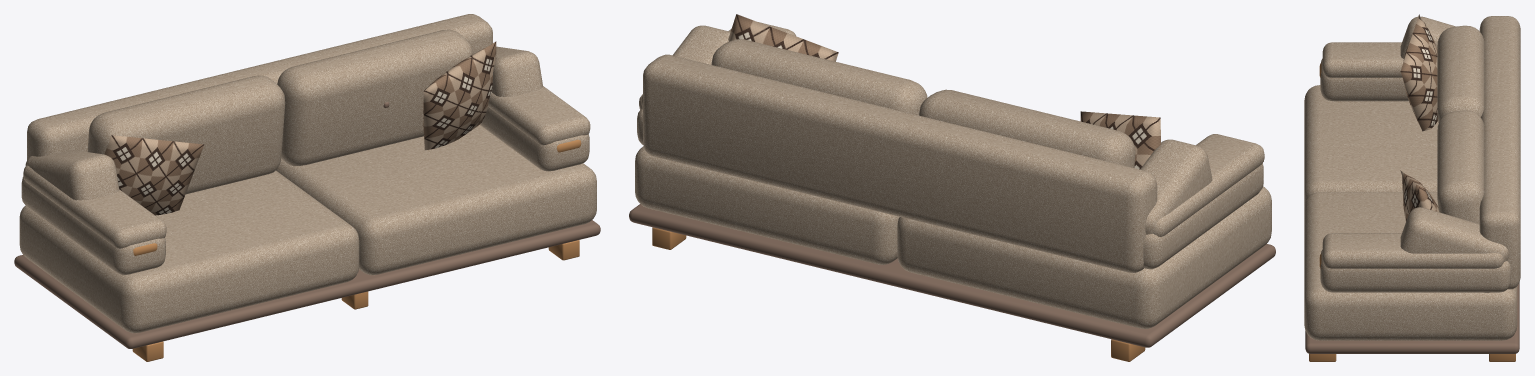
Rendered from limoon-3lu-koltuk.glb.
3 renders of one model, left to right at view 1: azimuth 30°, elevation 25°; view 2: azimuth 150°, elevation 25°; view 3: azimuth 270°, elevation 25°, orthographic. The views are drawn at different scales.
Parts seen in each view (by area): view 1: Limoon3Lu_Seat_0, Limoon3Lu_Seat_1, Limoon3Lu_BackCushion_1, Limoon3Lu_BackCushion_0, Limoon3Lu_Plinth, Limoon3Lu_BackFrame, Limoon3Lu_ThrowPillow_0, Limoon3Lu_ThrowPillow_1, Limoon3Lu_ArmTopPillow_0, Limoon3Lu_ArmBase_0, Limoon3Lu_ArmTopPillow_1, Limoon3Lu_SideWing_0 (+2 smaller); view 2: Limoon3Lu_BackFrame, Limoon3Lu_Seat_0, Limoon3Lu_Seat_1, Limoon3Lu_Plinth, Limoon3Lu_BackCushion_0, Limoon3Lu_BackCushion_1, Limoon3Lu_SideWing_0, Limoon3Lu_ArmTopPillow_0, Limoon3Lu_ArmBase_0, Limoon3Lu_ThrowPillow_0, Limoon3Lu_ThrowPillow_1, Limoon3Lu_SideWing_1 (+2 smaller); view 3: Limoon3Lu_Seat_1, Limoon3Lu_Seat_0, Limoon3Lu_BackFrame, Limoon3Lu_BackCushion_1, Limoon3Lu_ArmBase_1, Limoon3Lu_ArmTopPillow_1, Limoon3Lu_BackCushion_0, Limoon3Lu_SideWing_1, Limoon3Lu_Plinth, Limoon3Lu_ThrowPillow_0, Limoon3Lu_ArmTopPillow_0, Limoon3Lu_ArmBase_0 (+4 smaller).
Boxes of the visible parts, x1=… form: Limoon3Lu_Seat_0: x1=19, y1=170, x2=359, y2=333; Limoon3Lu_Seat_1: x1=276, y1=125, x2=596, y2=275; Limoon3Lu_BackCushion_1: x1=277, y1=29, x2=472, y2=166; Limoon3Lu_BackCushion_0: x1=87, y1=75, x2=285, y2=194; Limoon3Lu_Plinth: x1=14, y1=220, x2=600, y2=348; Limoon3Lu_BackFrame: x1=27, y1=14, x2=492, y2=159; Limoon3Lu_ThrowPillow_0: x1=104, y1=135, x2=204, y2=215; Limoon3Lu_ThrowPillow_1: x1=423, y1=41, x2=496, y2=150; Limoon3Lu_ArmTopPillow_0: x1=23, y1=165, x2=166, y2=248; Limoon3Lu_ArmBase_0: x1=21, y1=177, x2=165, y2=275; Limoon3Lu_ArmTopPillow_1: x1=488, y1=86, x2=590, y2=145; Limoon3Lu_SideWing_0: x1=25, y1=150, x2=119, y2=200; Limoon3Lu_BackFrame: x1=643, y1=54, x2=1157, y2=272; Limoon3Lu_Seat_0: x1=897, y1=186, x2=1271, y2=328; Limoon3Lu_Seat_1: x1=635, y1=146, x2=899, y2=264; Limoon3Lu_Plinth: x1=629, y1=204, x2=1275, y2=347; Limoon3Lu_BackCushion_0: x1=919, y1=89, x2=1135, y2=167; Limoon3Lu_BackCushion_1: x1=711, y1=39, x2=927, y2=115; Limoon3Lu_SideWing_0: x1=1140, y1=139, x2=1212, y2=234; Limoon3Lu_ArmTopPillow_0: x1=1153, y1=134, x2=1264, y2=236; Limoon3Lu_ArmBase_0: x1=1143, y1=163, x2=1263, y2=269; Limoon3Lu_ThrowPillow_0: x1=1080, y1=111, x2=1160, y2=169; Limoon3Lu_ThrowPillow_1: x1=728, y1=14, x2=838, y2=61; Limoon3Lu_SideWing_1: x1=641, y1=25, x2=730, y2=109; Limoon3Lu_Seat_1: x1=1304, y1=192, x2=1517, y2=340; Limoon3Lu_Seat_0: x1=1304, y1=85, x2=1438, y2=206; Limoon3Lu_BackFrame: x1=1479, y1=16, x2=1520, y2=289; Limoon3Lu_BackCushion_1: x1=1437, y1=110, x2=1484, y2=223; Limoon3Lu_ArmBase_1: x1=1320, y1=249, x2=1510, y2=292; Limoon3Lu_ArmTopPillow_1: x1=1322, y1=233, x2=1504, y2=268; Limoon3Lu_BackCushion_0: x1=1437, y1=25, x2=1484, y2=122; Limoon3Lu_SideWing_1: x1=1400, y1=207, x2=1508, y2=292; Limoon3Lu_Plinth: x1=1305, y1=282, x2=1519, y2=353; Limoon3Lu_ThrowPillow_0: x1=1400, y1=14, x2=1437, y2=131; Limoon3Lu_ArmTopPillow_0: x1=1322, y1=42, x2=1403, y2=77; Limoon3Lu_ArmBase_0: x1=1320, y1=58, x2=1408, y2=101.
Bounding box in the file's own units: 2.24 × 0.8007 × 0.9546.
4 materials, 2 textured.
